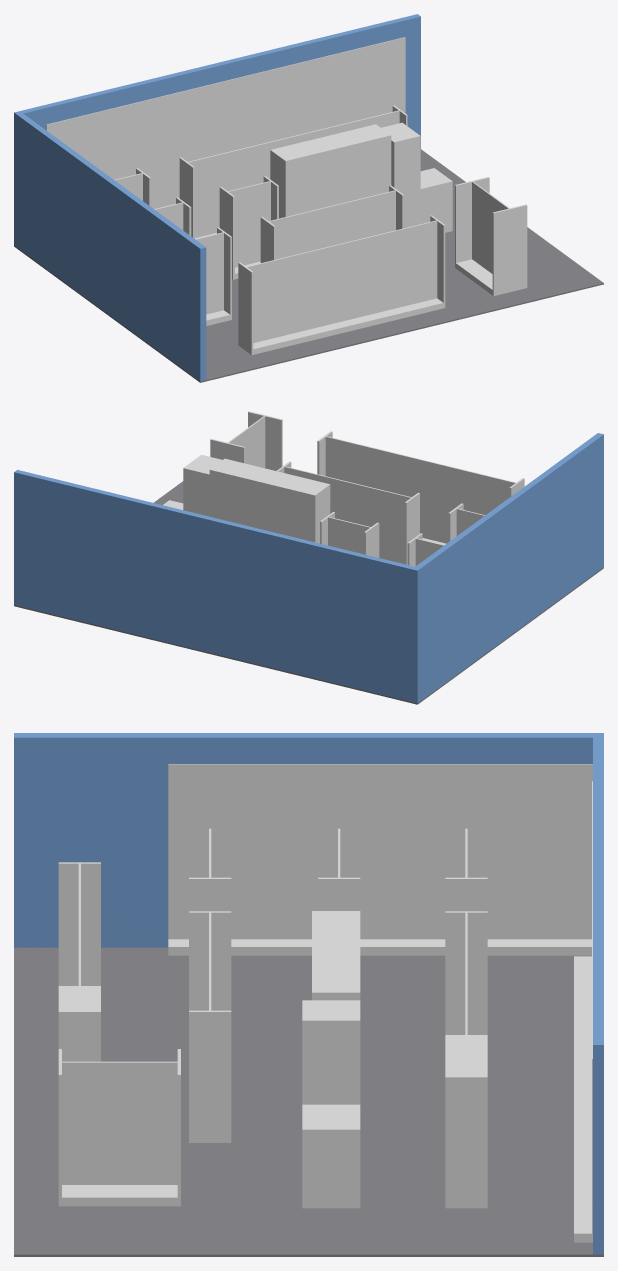
Rendered from drug-storage-area.glb.
3 views of the same model, one above another, from view 1: azimuth 30°, elevation 25°; view 2: azimuth 150°, elevation 25°; view 3: azimuth 270°, elevation 25° (orthographic). The views are drawn at different scales.
Parts seen in each view (by area): view 1: Vis3D_Wall, Vis3D_Fixture_G_FSG_Panels, Vis3D_Floor, Vis3D_SP_DrugCabinet, Vis3D_Fixture_D_FSD_Panels, Vis3D_Fixture_F_FSF_Panels, Vis3D_Uniweb_Back_P6, Vis3D_Uniweb_Back_P7, Vis3D_Uniweb_Back_P3, Vis3D_Uniweb_Back_P4, Vis3D_Uniweb_Back_P5, Vis3D_Uniweb_Back_P2 (+16 smaller); view 2: Vis3D_Wall, Vis3D_Fixture_G_FSG_Panels, Vis3D_SP_DrugCabinet, Vis3D_Fixture_F_FSF_Panels, Vis3D_Floor, Vis3D_SP_CenterTower, Vis3D_Fixture_H_FSH_EndCap_XPos, Vis3D_Fixture_E_FSE_Panels, Vis3D_Fixture_H_FSH_Panels, Vis3D_Fixture_F_FSF_EndCap_XNeg, Vis3D_Fixture_H_FSH_EndCap_XNeg, Vis3D_Fixture_E_FSE_EndCap_XNeg (+2 smaller); view 3: Vis3D_Floor, Vis3D_Wall, Vis3D_Uniweb_Left_P1, Vis3D_Uniweb_Left_P2, Vis3D_Uniweb_Left_P3, Vis3D_Fixture_H_FSH_Panels, Vis3D_Uniweb_Left_P4, Vis3D_SP_CenterTower, Vis3D_SP_ComputerCabinet, Vis3D_Fixture_D_FSD_EndCap_XPos, Vis3D_Fixture_F_FSF_EndCap_XPos, Vis3D_Fixture_D_FSD_EndCap_XNeg (+16 smaller).
Boxes of the visible parts, left/top/right/bottom form: Vis3D_Wall: left=14, top=14, right=420, bottom=381; Vis3D_Fixture_G_FSG_Panels: left=246, top=220, right=437, bottom=342; Vis3D_Floor: left=14, top=149, right=603, bottom=382; Vis3D_SP_DrugCabinet: left=270, top=124, right=391, bottom=218; Vis3D_Fixture_D_FSD_Panels: left=188, top=110, right=399, bottom=237; Vis3D_Fixture_F_FSF_Panels: left=269, top=190, right=395, bottom=259; Vis3D_Uniweb_Back_P6: left=279, top=52, right=342, bottom=139; Vis3D_Uniweb_Back_P7: left=342, top=37, right=405, bottom=123; Vis3D_Uniweb_Back_P3: left=152, top=88, right=194, bottom=208; Vis3D_Uniweb_Back_P4: left=194, top=78, right=236, bottom=160; Vis3D_Uniweb_Back_P5: left=236, top=68, right=278, bottom=149; Vis3D_Uniweb_Back_P2: left=110, top=99, right=151, bottom=207; Vis3D_Wall: left=14, top=433, right=603, bottom=703; Vis3D_Fixture_G_FSG_Panels: left=325, top=436, right=515, bottom=543; Vis3D_SP_DrugCabinet: left=209, top=458, right=330, bottom=543; Vis3D_Fixture_F_FSF_Panels: left=284, top=466, right=411, bottom=563; Vis3D_Floor: left=14, top=481, right=603, bottom=704; Vis3D_SP_CenterTower: left=183, top=454, right=222, bottom=516; Vis3D_Fixture_H_FSH_EndCap_XPos: left=248, top=411, right=282, bottom=470; Vis3D_Fixture_E_FSE_Panels: left=328, top=517, right=370, bottom=554; Vis3D_Fixture_H_FSH_Panels: left=228, top=416, right=265, bottom=468; Vis3D_Fixture_F_FSF_EndCap_XNeg: left=404, top=492, right=419, bottom=564; Vis3D_Fixture_H_FSH_EndCap_XNeg: left=210, top=439, right=244, bottom=463; Vis3D_Fixture_E_FSE_EndCap_XNeg: left=364, top=522, right=379, bottom=557; Vis3D_Floor: left=14, top=947, right=603, bottom=1256; Vis3D_Wall: left=14, top=733, right=603, bottom=1254; Vis3D_Uniweb_Left_P1: left=477, top=764, right=592, bottom=939; Vis3D_Uniweb_Left_P2: left=361, top=764, right=477, bottom=939; Vis3D_Uniweb_Left_P3: left=245, top=764, right=361, bottom=939; Vis3D_Fixture_H_FSH_Panels: left=62, top=1061, right=177, bottom=1184; Vis3D_Uniweb_Left_P4: left=168, top=764, right=245, bottom=939; Vis3D_SP_CenterTower: left=302, top=1000, right=360, bottom=1104; Vis3D_SP_ComputerCabinet: left=302, top=1104, right=360, bottom=1208; Vis3D_Fixture_D_FSD_EndCap_XPos: left=445, top=1075, right=487, bottom=1208; Vis3D_Fixture_F_FSF_EndCap_XPos: left=189, top=1010, right=231, bottom=1142; Vis3D_Fixture_D_FSD_EndCap_XNeg: left=445, top=911, right=487, bottom=1034.
Size of the model in its own units: 306 by 97 by 244.
